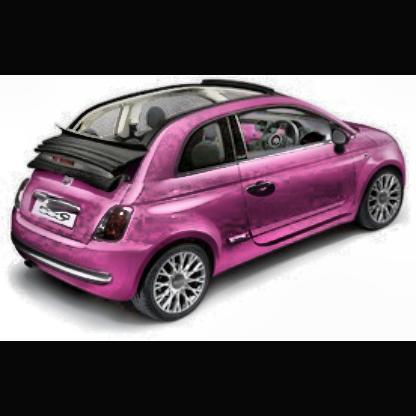FIAT 500 Convertible 2012: (15, 80, 412, 325)
